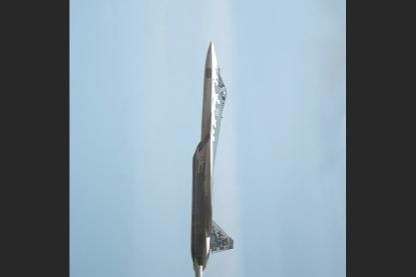SR71: (191, 39, 235, 276)
